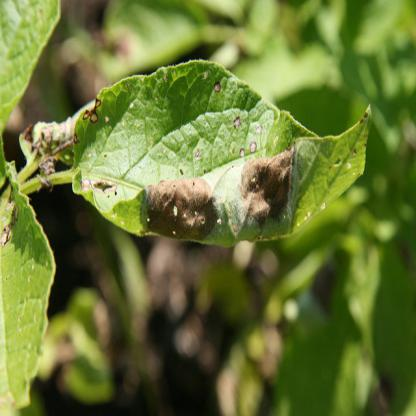Potato leaf late blight: (18, 56, 378, 255)
